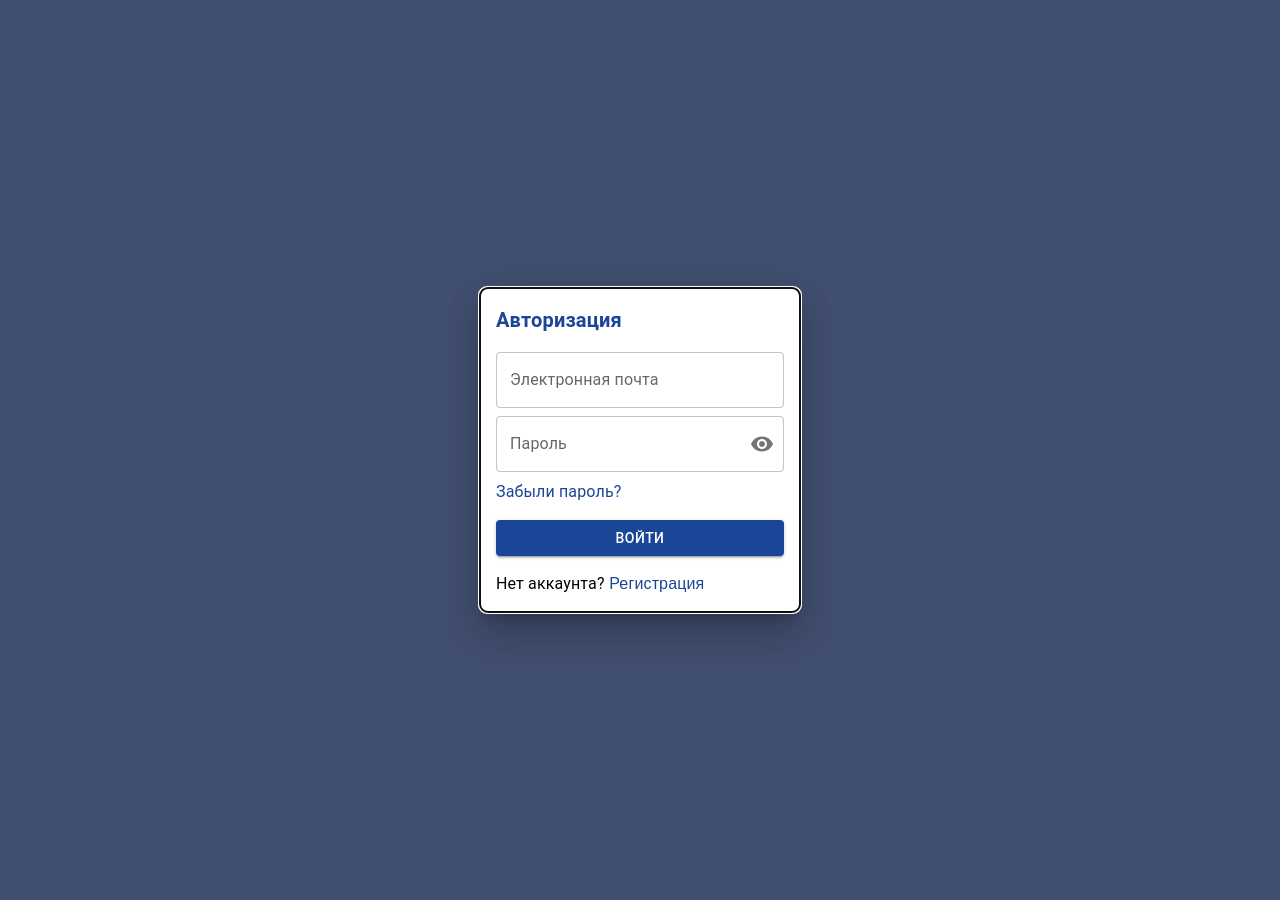
Test case: AuthenticationModal › показывает ошибку при неверных данных авторизации
The width and height of the screenshot is (1280, 900).
Type "wrong@email.com" into the field labelled "Электронная почта". click: (640, 380)
box: [496,352,784,408]
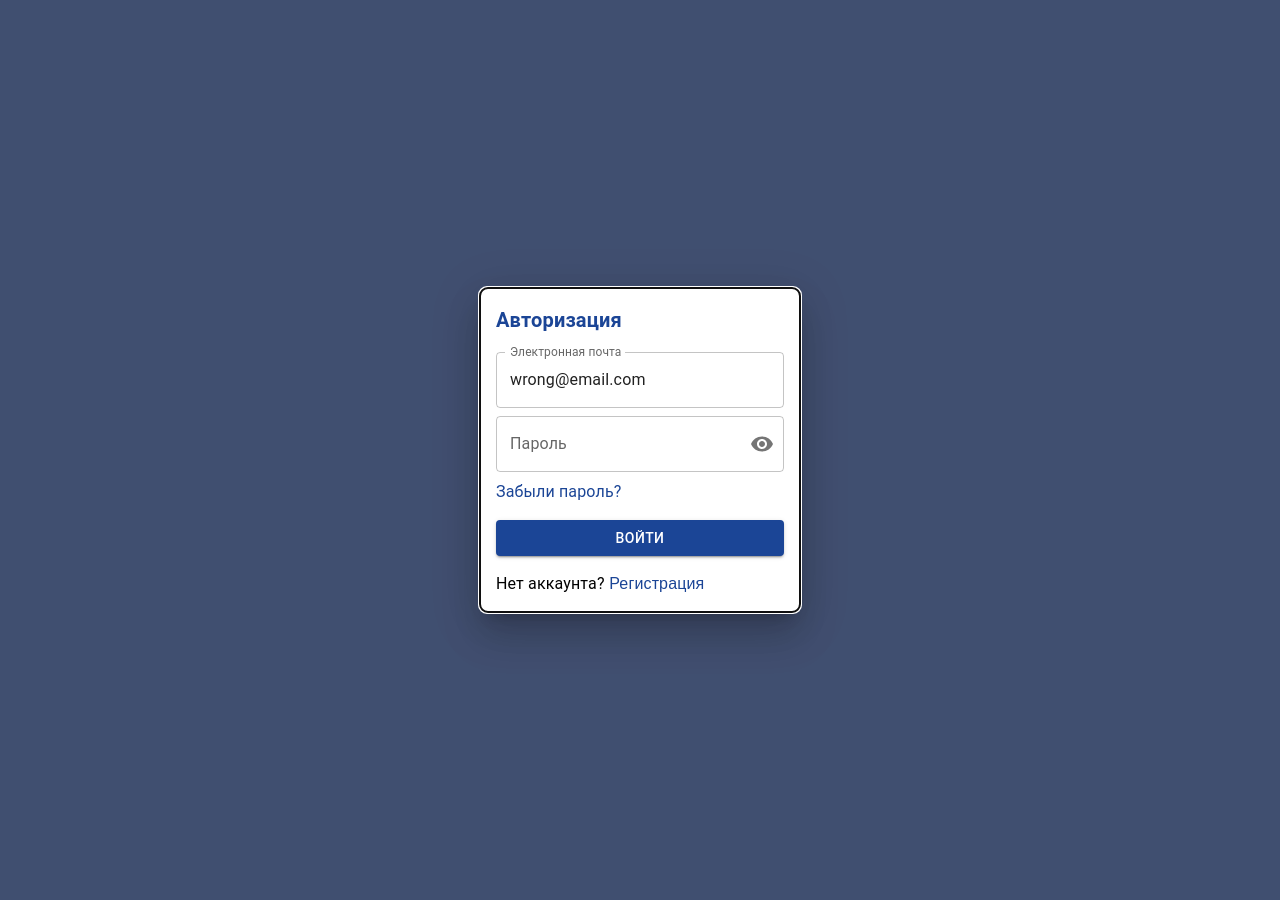
Type "wrongpass" into the password field labelled "Пароль". click: (615, 444)
box: [496,416,734,472]
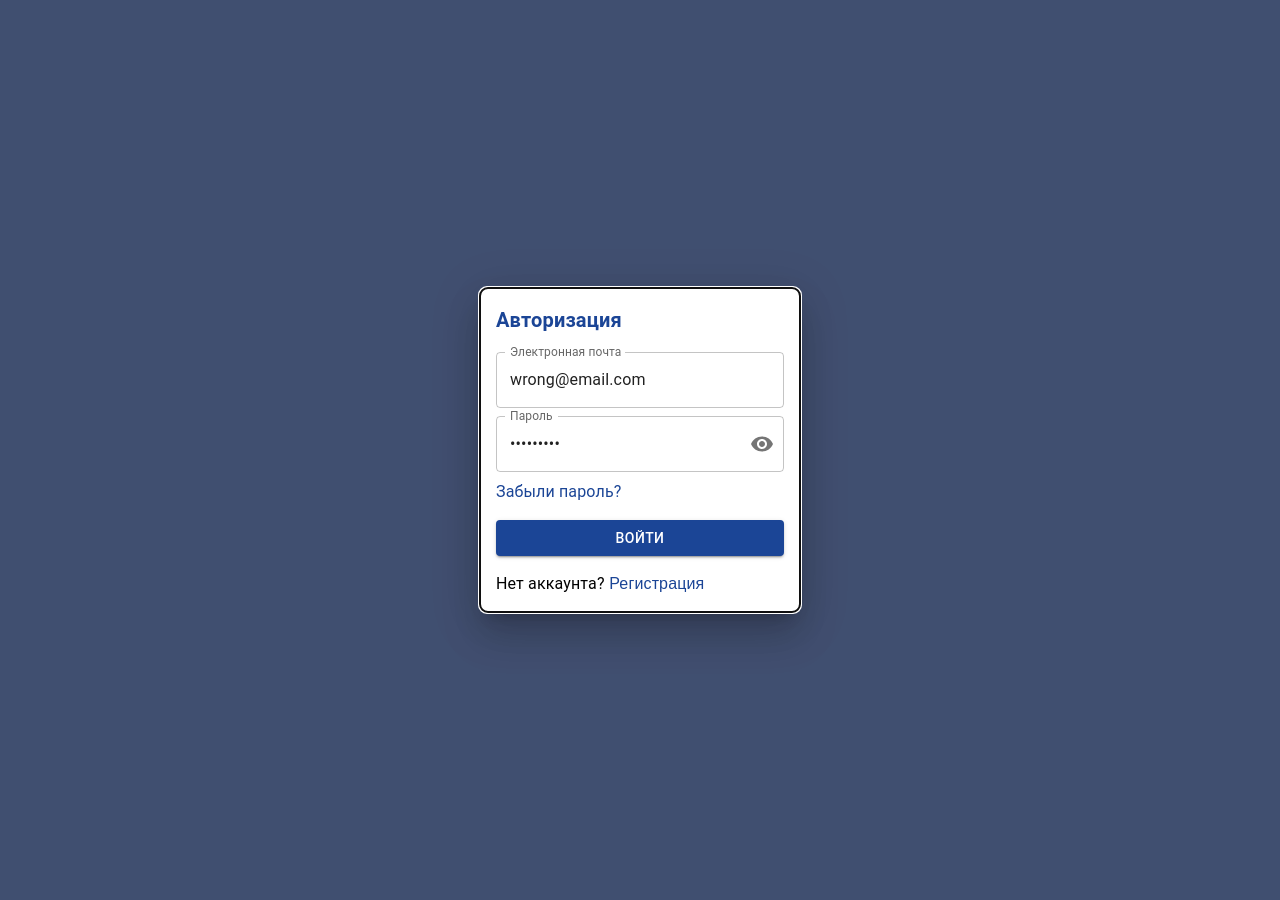
Click the button "Войти". click: click(640, 538)
box: [496,520,784,556]
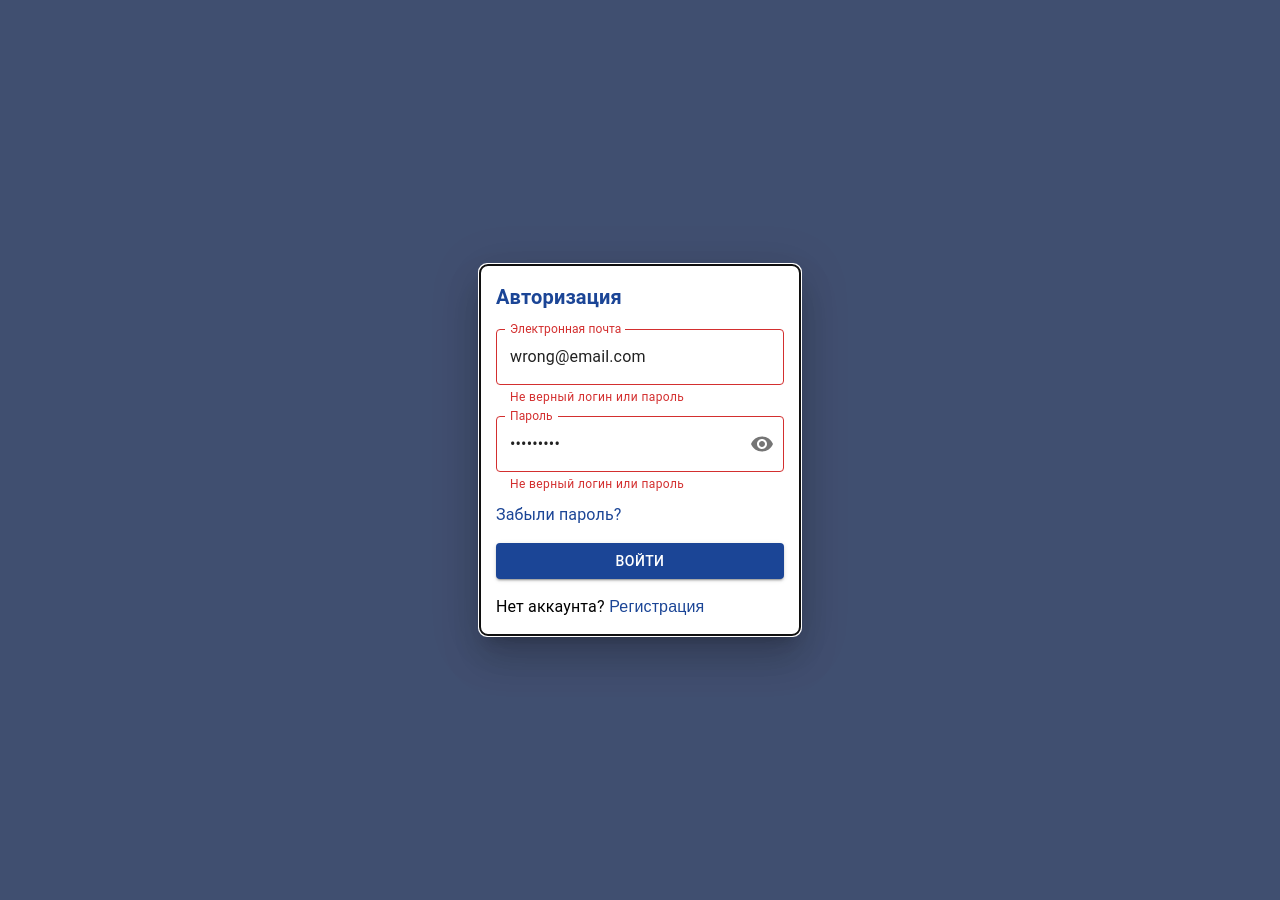
Now the text "Не верный логин или пароль" below "Электронная почта" is shown, box [510,390,684,404]
